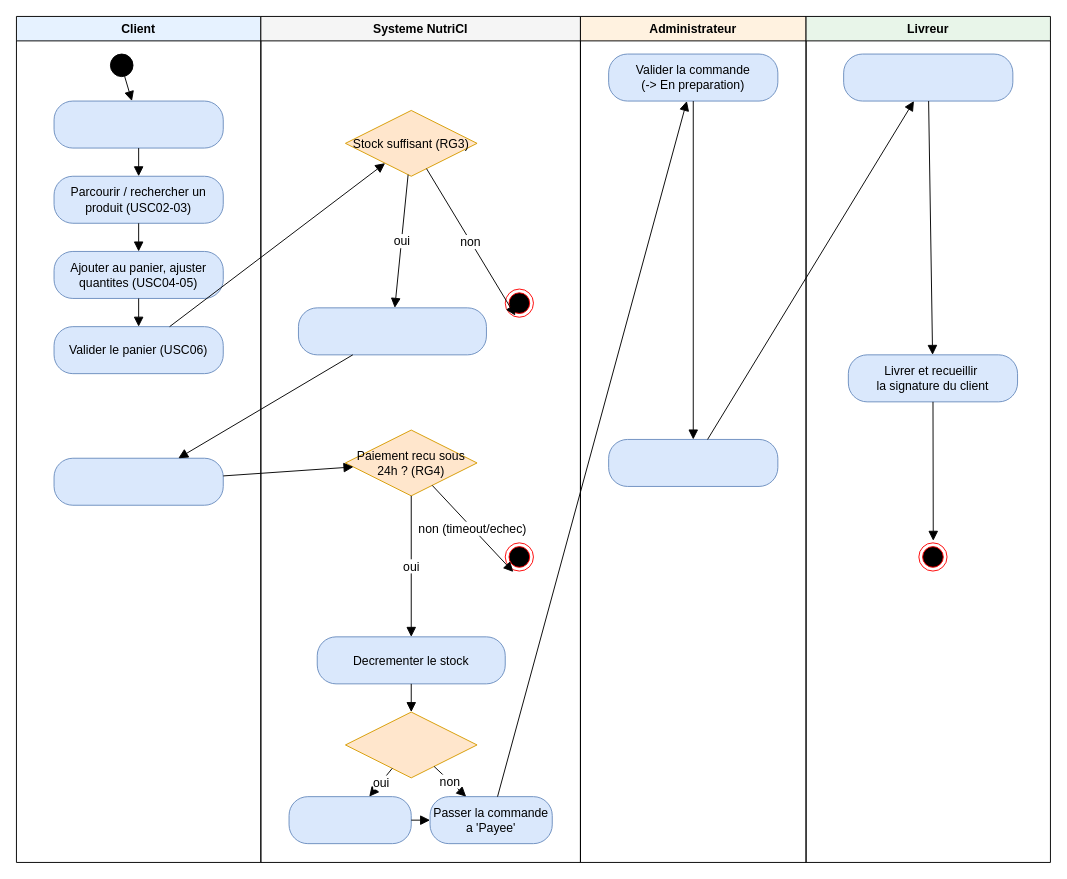
Some shapes in this 1067 by 879 pixel diagram are drawn without their labels. The centre of each missing label's shape, as x and y in pixels:
Alerter l'administrateur: the point at 349,820
Calculer le total + frais livraison (RG9): the point at 392,331
Choisir mode de paiement Mobile Money: the point at 138,481
Preparer / expedier la commande: the point at 693,462
Recevoir notification (commande Expediee) (RG7): the point at 928,77
Se connecter / creer un compte (USC01): the point at 138,124
Stock < 5 (RG8): the point at 411,744
